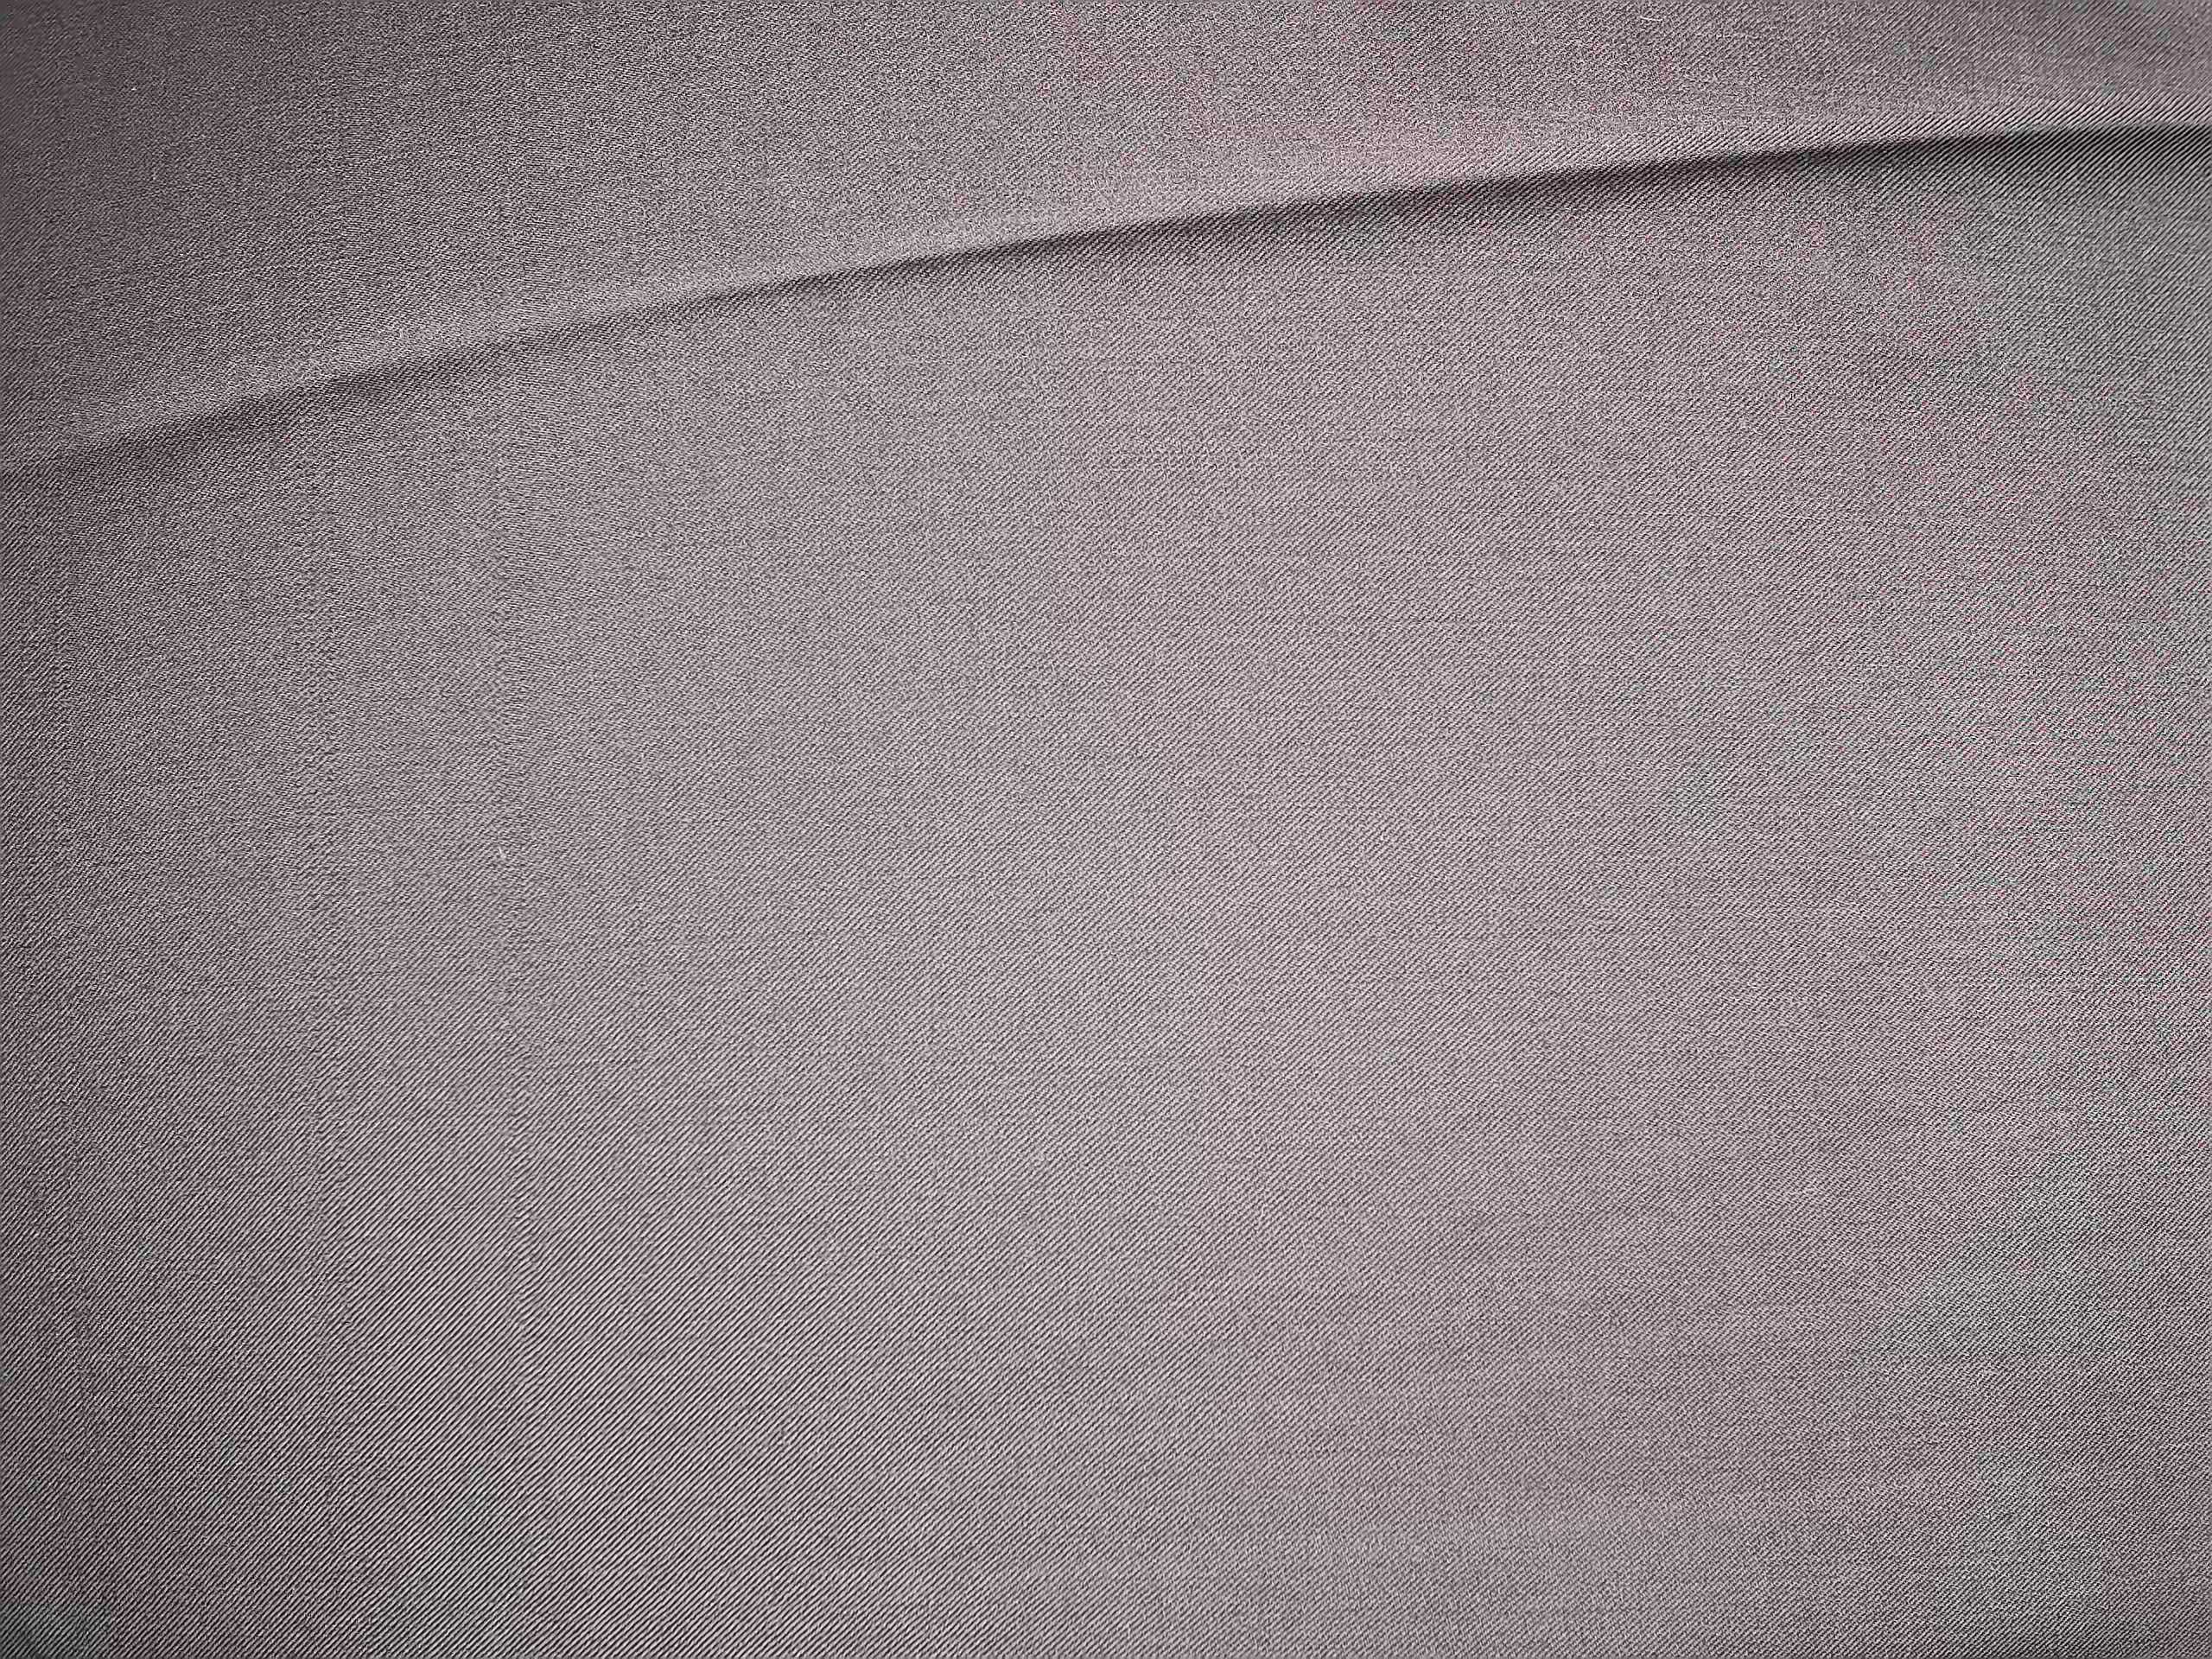hanging-warp: (296, 183, 357, 1540), (489, 157, 542, 1434)
